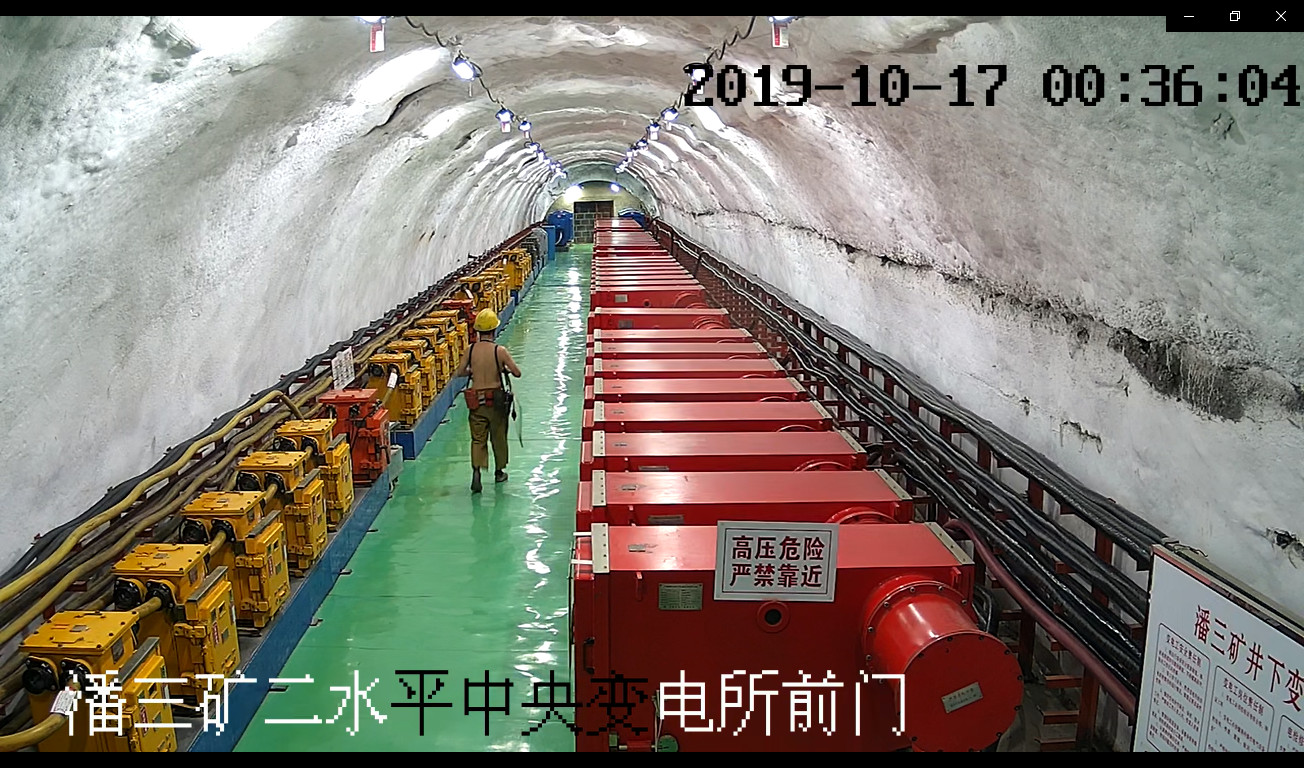helmet: (472, 308, 500, 331)
